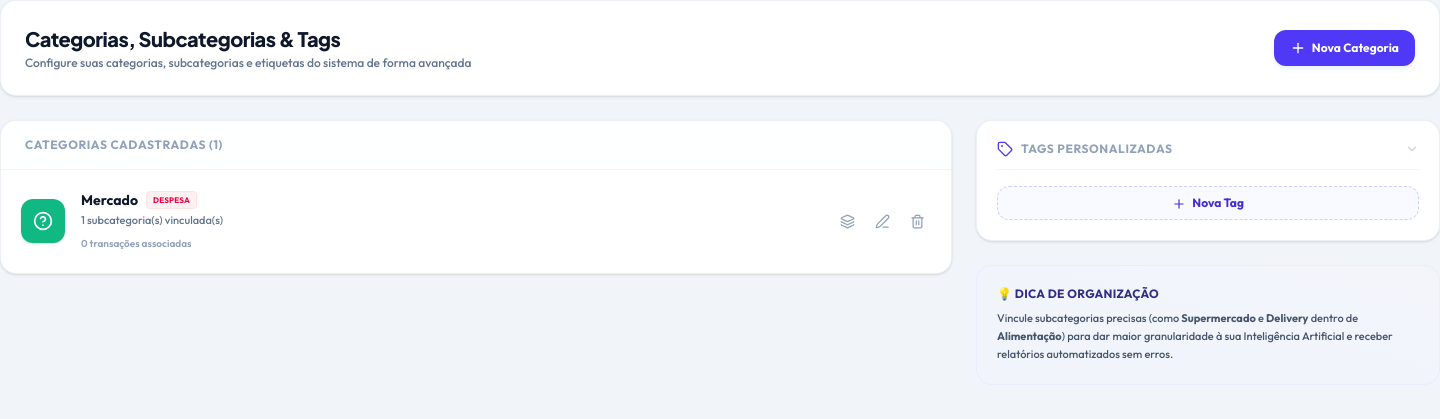
CategoryManager › lista categorias, subcategorias e tags
Expected: the heading "Mercado" is shown, x1=81 y1=190 x2=138 y2=210
// Expandir a categoria para ver as subcategorias
Click the button "Mercado" at (122, 221), box x1=21 y1=190 x2=223 y2=252
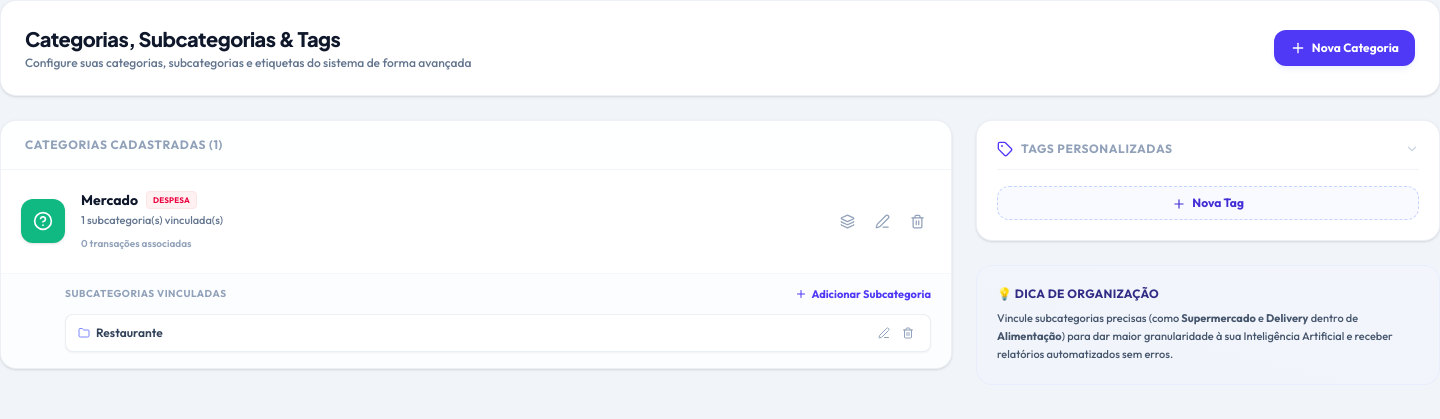
Expected: the text "Restaurante" is shown, x1=78 y1=325 x2=163 y2=341
Click the button "Tags Personalizadas" at (1097, 148), box x1=997 y1=141 x2=1419 y2=170
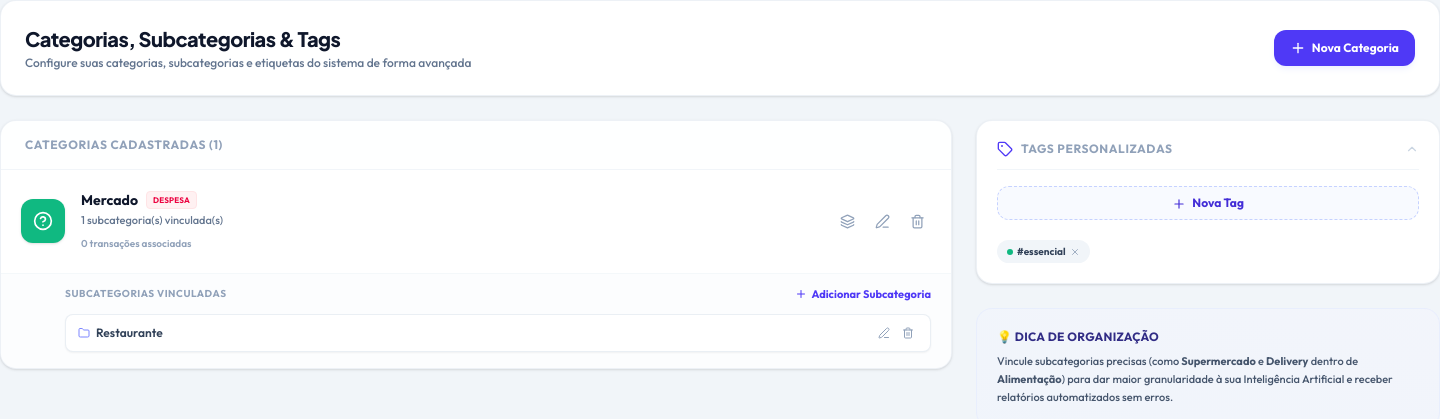
Expected: the text "#essencial" is shown, x1=997 y1=240 x2=1090 y2=263
